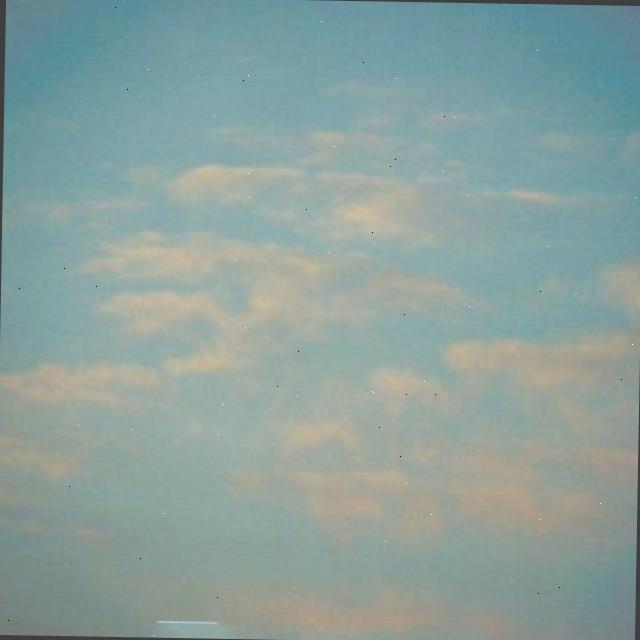Ci: (1, 10, 640, 590)
